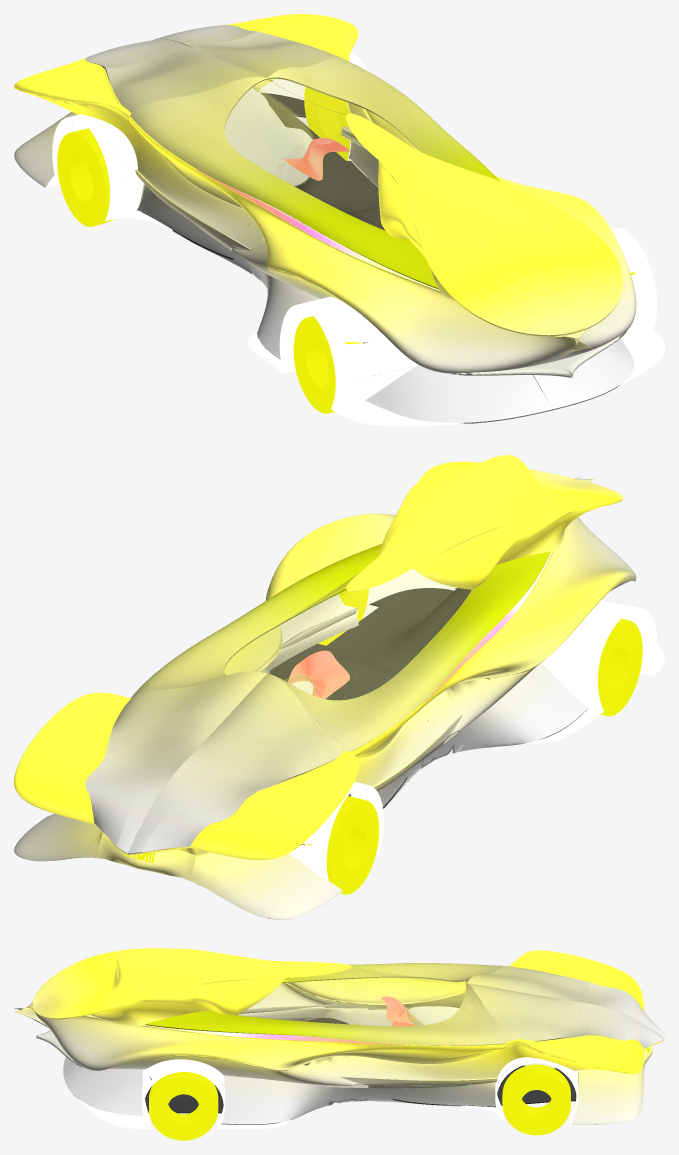
File: XYZ008-yellow-v5.glb
3 views of the same model, one above another, from view 1: azimuth 30°, elevation 25°; view 2: azimuth 150°, elevation 25°; view 3: azimuth 270°, elevation 25° (orthographic). The views are drawn at different scales.
Visible parts, largest first — view 1: ARAC, Merged Objects 7, Merged Objects 8; view 2: ARAC, Merged Objects 7, Merged Objects 8; view 3: ARAC, Merged Objects 7, Merged Objects 8.
Part boxes in pixels (bbox=[...]): ARAC: bbox=[14, 14, 664, 426]; Merged Objects 7: bbox=[57, 87, 635, 413]; Merged Objects 8: bbox=[196, 138, 438, 289]; ARAC: bbox=[14, 455, 664, 919]; Merged Objects 7: bbox=[124, 589, 642, 894]; Merged Objects 8: bbox=[288, 553, 551, 701]; ARAC: bbox=[14, 948, 664, 1129]; Merged Objects 7: bbox=[149, 1029, 649, 1140]; Merged Objects 8: bbox=[145, 996, 417, 1045].
Bounding box in the file's own units: 2.57 × 1.48 × 6.37.
9 materials, 5 textured.
